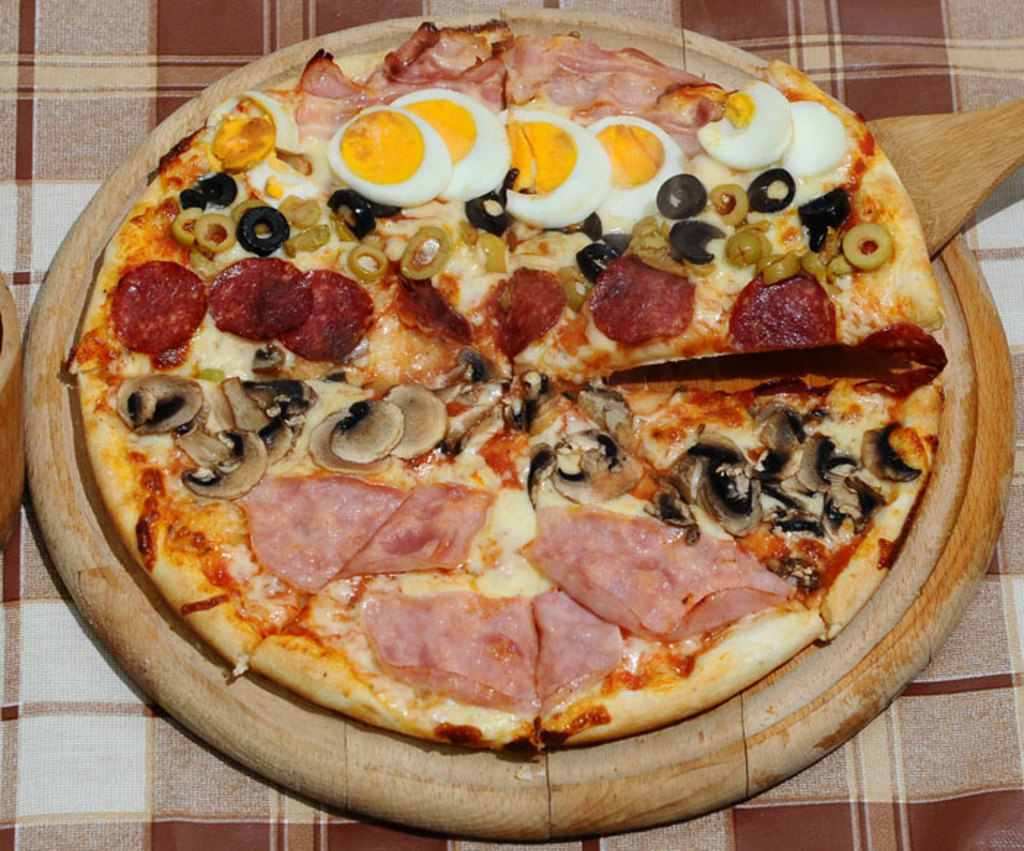Pizza: (62, 17, 945, 766)
